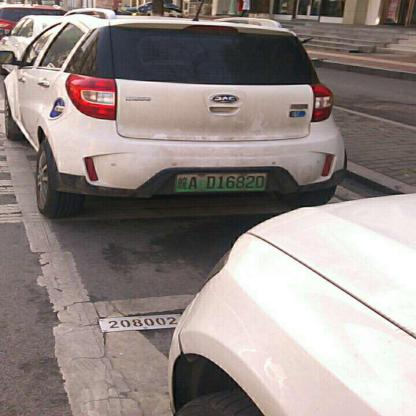lp: (177, 173, 267, 191)
